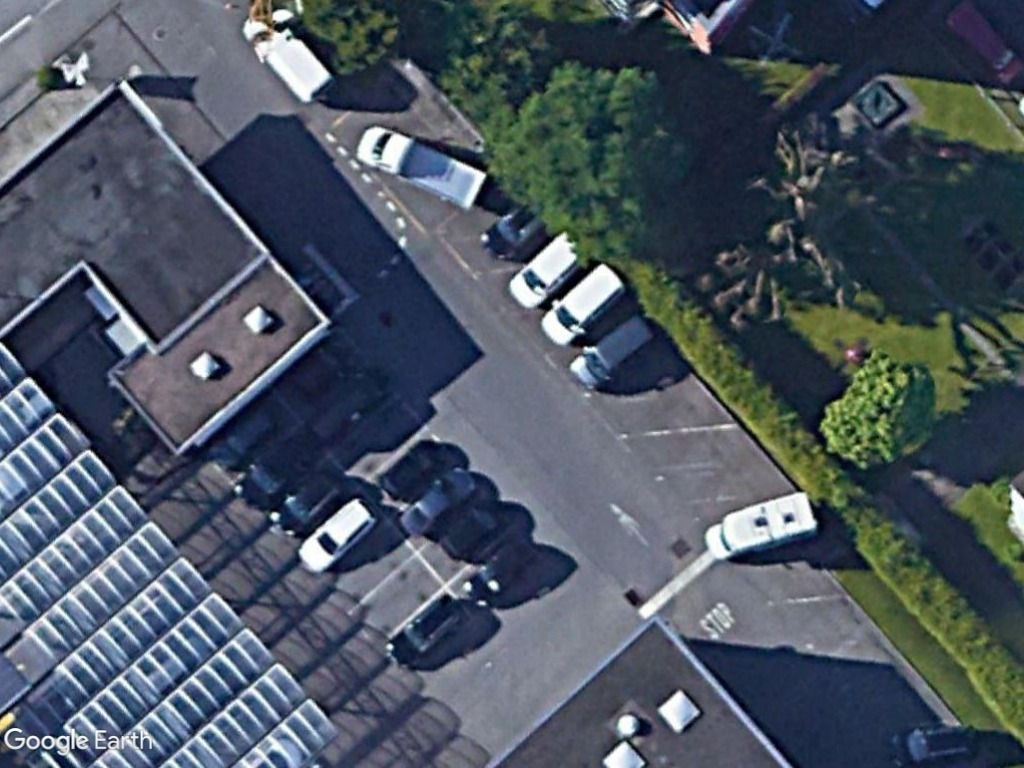car: (296, 494, 380, 578), (398, 466, 477, 541)
others: (353, 125, 489, 212)
truck: (701, 489, 818, 563)
van: (564, 310, 655, 397), (539, 261, 625, 348), (505, 231, 585, 312)
